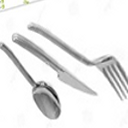Fork: (24, 18, 128, 101)
